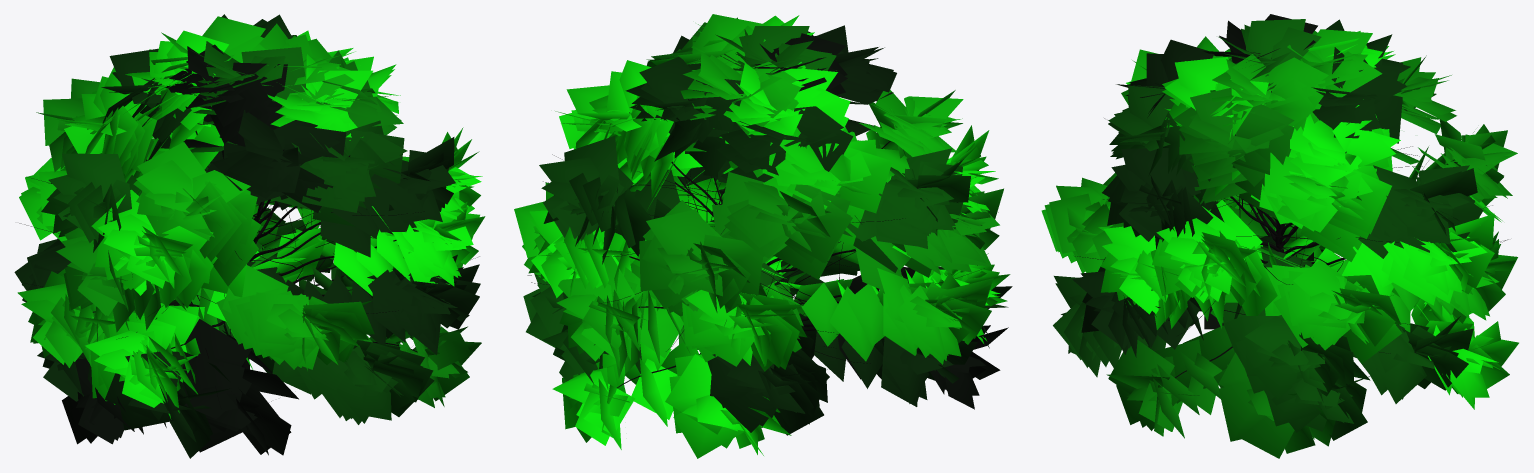
The model's file is SilverLime_2.fbx.
3 renders of one model, left to right at view 1: azimuth 30°, elevation 25°; view 2: azimuth 150°, elevation 25°; view 3: azimuth 270°, elevation 25°, orthographic. The views are drawn at different scales.
Visible parts, largest first — view 1: SilverLime_2; view 2: SilverLime_2; view 3: SilverLime_2.
Boxes of the visible parts, <box> form: SilverLime_2: <box>14,14,485,458</box>; SilverLime_2: <box>514,14,1012,458</box>; SilverLime_2: <box>1041,14,1518,458</box>.
Size of the model in its own units: 758 by 640 by 751.
